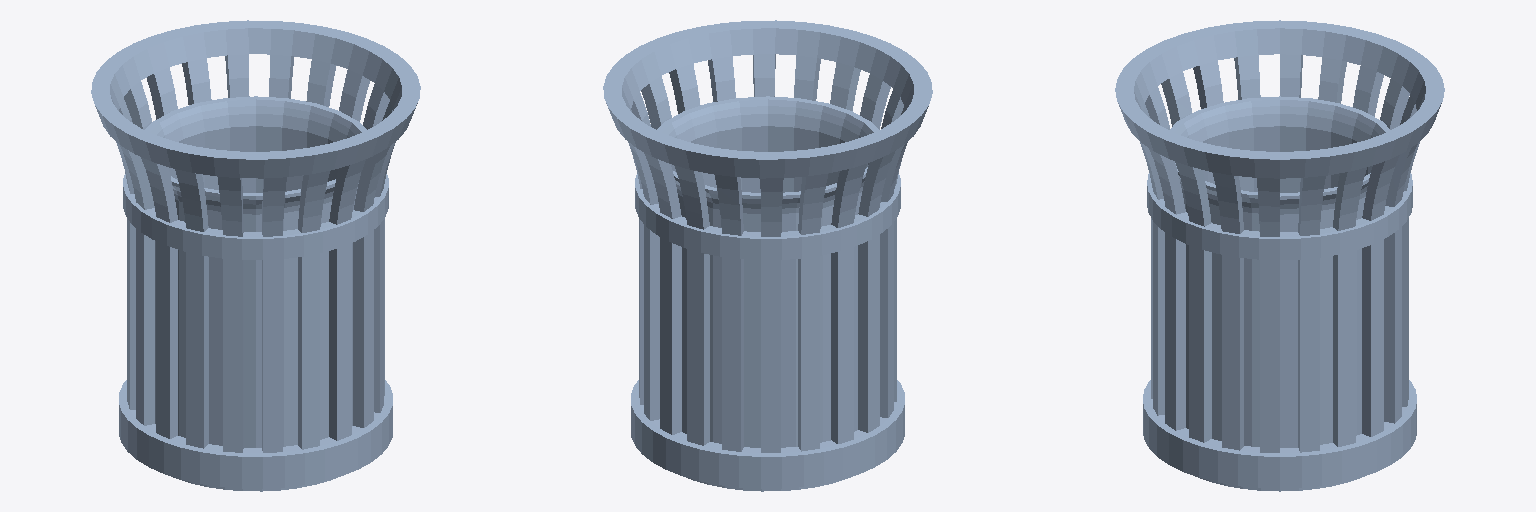
URDF robot description (trashcan.urdf):
<?xml version="1.0" ?>
<robot name="trashcan.urdf">
  <link name="baseLink">
      <contact>
      <lateral_friction value="1.0"/>
      <inertia_scaling value="3.0"/>
    </contact>
    <inertial>
      <origin rpy="0 0 0" xyz="-0.01 0 0.02"/>
       <mass value="1.0"/>
       <inertia ixx="1" ixy="0" ixz="0" iyy="1" iyz="0" izz="1"/>
    </inertial>
    <visual>
       <origin rpy="0 0 0" xyz="0 0 0.1"/>
      <geometry>
        <mesh filename="trashcan_1.obj" scale="0.07 0.07 0.06"/>
      </geometry>
      <material name="light steel blue">
       <color rgba="0.690196078 0.7686274509 0.8705882352 1"/>
     </material>
    </visual>
    <collision>
      <origin rpy="0 0 0" xyz="0 0 0"/>
      <geometry>
	 	    <mesh filename="trashcan_1.obj" scale="0.07 0.07 0.06"/>
      </geometry>
    </collision>
  </link>
</robot>

--- Facts derived from the render (not from the file) ---
3 views of the same robot in one strip: view 1: azimuth 30°, elevation 25°; view 2: azimuth 150°, elevation 25°; view 3: azimuth 270°, elevation 25° (orthographic).
Robot: trashcan.urdf — 1 links, 0 joints (none); root link baseLink; default pose: all joints at 0.
Links seen in each view (by area): view 1: baseLink; view 2: baseLink; view 3: baseLink.
Link boxes in pixels (box(x1,y1,x2,y2)): baseLink: box(91, 20, 420, 491); baseLink: box(603, 20, 932, 491); baseLink: box(1115, 20, 1444, 491).
Bounding box of the posed robot: 0.2496 × 0.2496 × 0.293 m (x, y, z).
1 mesh visuals loaded from 1 distinct referenced files (1 OBJ).